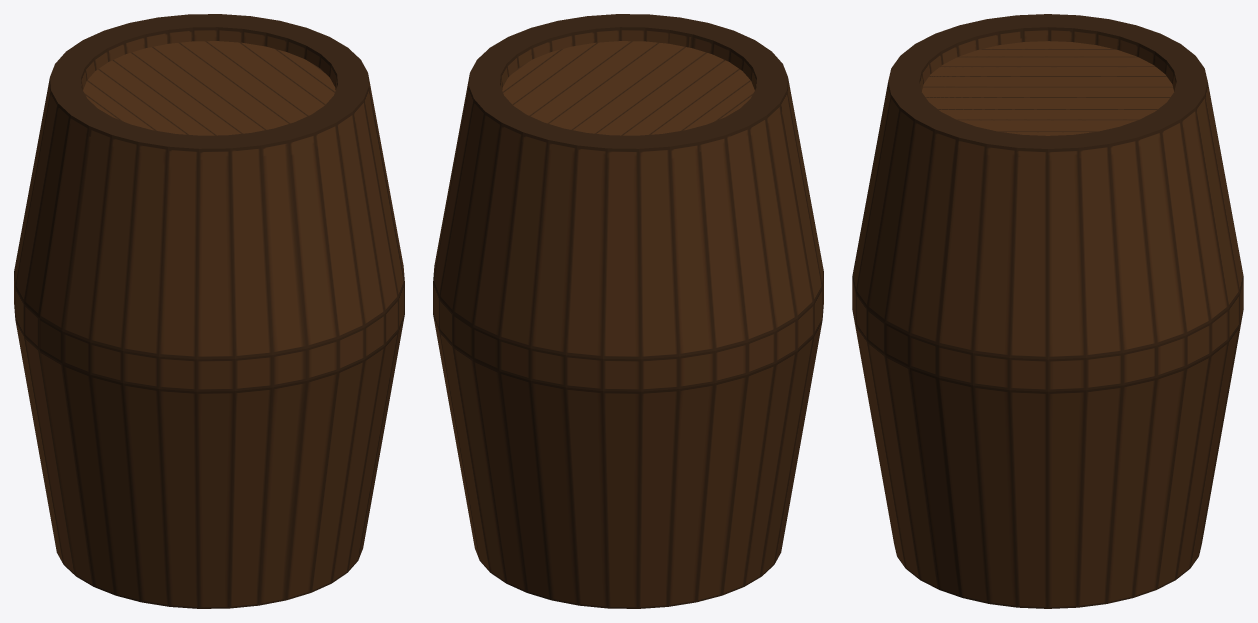
The model's file is Barrel.fbx.
3 renders of one model, left to right at view 1: azimuth 30°, elevation 25°; view 2: azimuth 150°, elevation 25°; view 3: azimuth 270°, elevation 25°, orthographic.
Visible parts, largest first — view 1: Barrel; view 2: Barrel; view 3: Barrel.
Part boxes in pixels (box(x1,y1,x2,y2)): Barrel: box(14, 14, 404, 608); Barrel: box(433, 14, 823, 608); Barrel: box(852, 14, 1243, 608).
Bounding box in the file's own units: 5.09 × 6.63 × 5.09.
